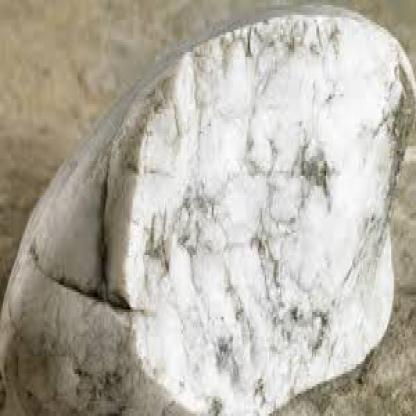Metamorphic_Marble: (6, 5, 413, 411)
